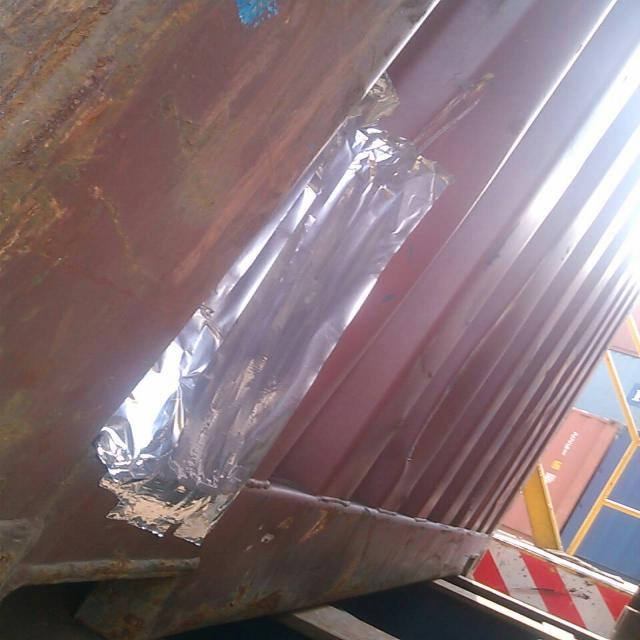rust: (1, 2, 205, 273)
